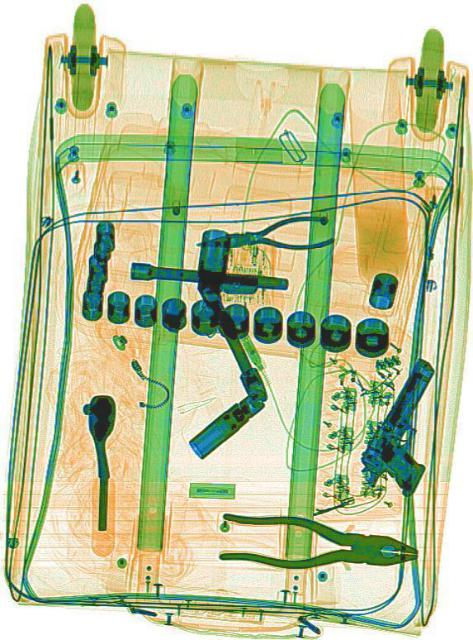Gun: (357, 351, 466, 502)
Pliers: (217, 506, 418, 580), (194, 212, 333, 258)
